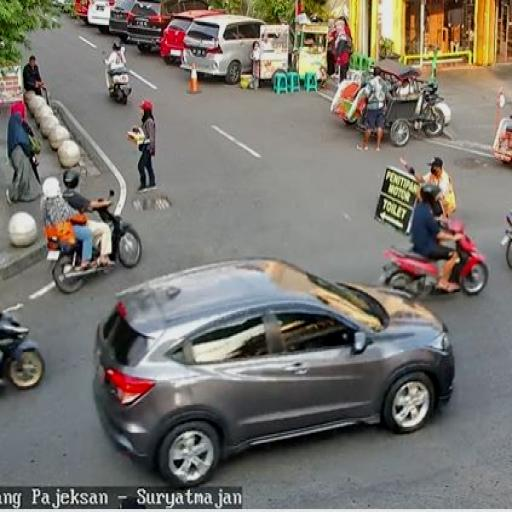mobil: (86, 254, 458, 486), (184, 16, 273, 84), (129, 0, 205, 54), (163, 9, 222, 64)
motor: (380, 211, 488, 310), (30, 188, 140, 285), (96, 52, 137, 106)
